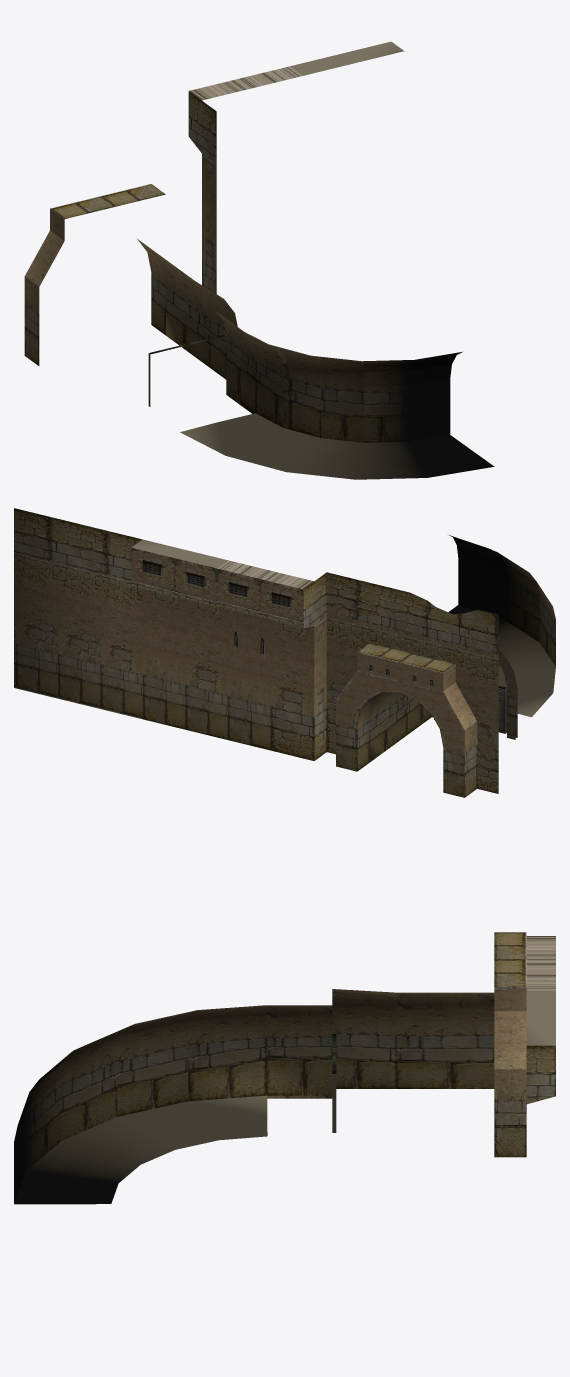
The model's file is M2Zone4_Building19.glb.
The picture shows the model from 3 angles, top to bottom: view 1: azimuth 30°, elevation 25°; view 2: azimuth 150°, elevation 25°; view 3: azimuth 270°, elevation 25°; orthographic projection. The views are drawn at different scales.
Visible parts, largest first — view 1: M2ZONE4_BUILDING19; view 2: M2ZONE4_BUILDING19; view 3: M2ZONE4_BUILDING19.
Boxes of the visible parts, x1,y1,x2,y2 form: M2ZONE4_BUILDING19: (24, 41, 494, 479); M2ZONE4_BUILDING19: (14, 508, 555, 797); M2ZONE4_BUILDING19: (14, 932, 555, 1204).
Bounding box in the file's own units: 43.96 × 16.2 × 33.42.
Materials: 6 (6 with a texture image).
